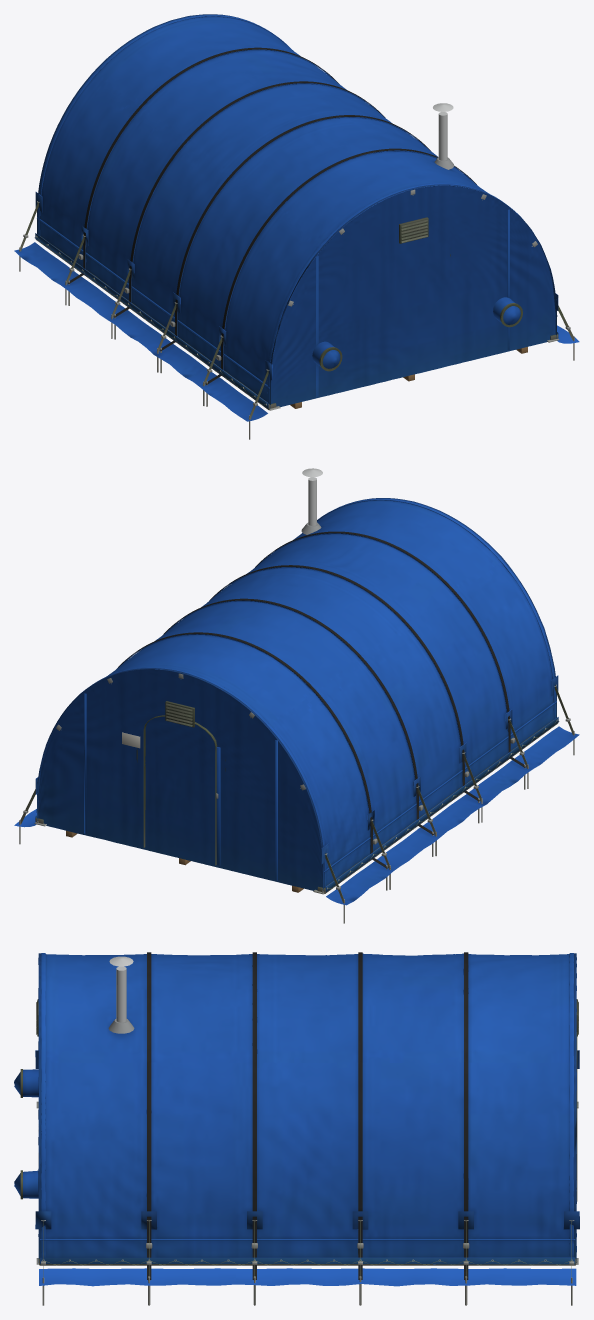
The model's file is polarhaven-deployed-fitted.glb.
The picture shows the model from 3 angles, top to bottom: view 1: azimuth 30°, elevation 25°; view 2: azimuth 150°, elevation 25°; view 3: azimuth 270°, elevation 25°; orthographic projection. The views are drawn at different scales.
Parts seen in each view (by area): view 1: POLARHAVEN_shelter; view 2: POLARHAVEN_shelter; view 3: POLARHAVEN_shelter.
Part boxes in pixels (x1,y1,x2,y2): POLARHAVEN_shelter: (14,14,579,439); POLARHAVEN_shelter: (14,468,579,923); POLARHAVEN_shelter: (14,952,579,1305).
Bounding box in the file's own units: 5.1 × 3.74 × 6.53.
42 materials, 15 textured.
